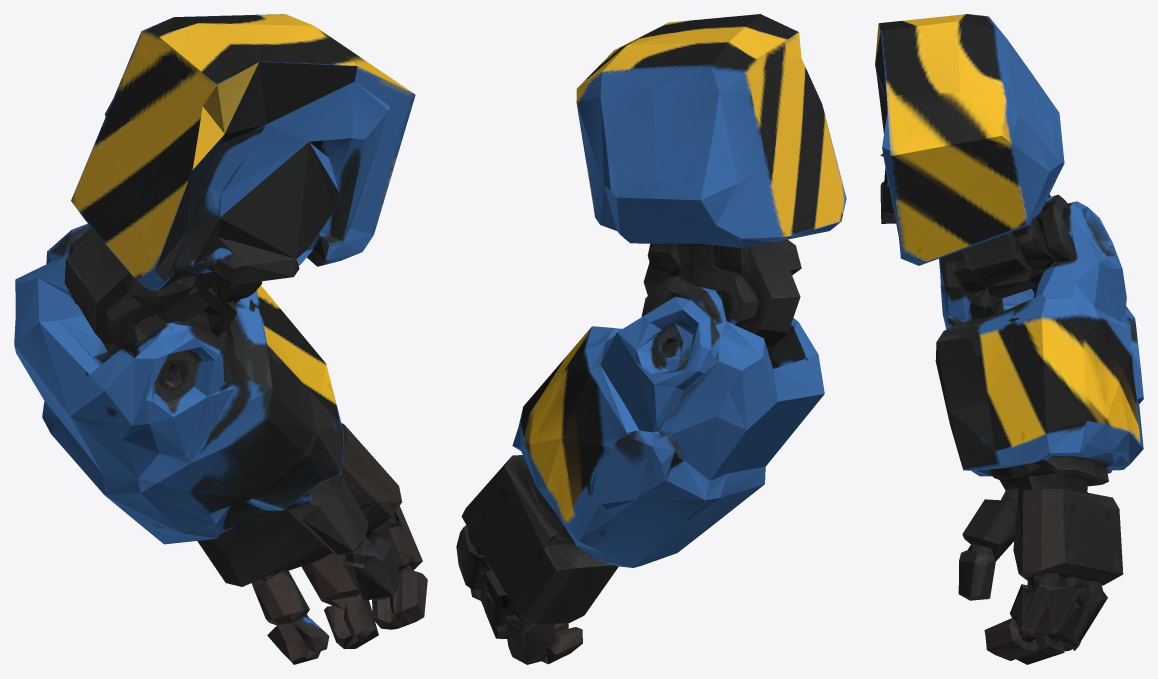
File: SM_HeavyDebris_Arm_L.fbx
The picture shows the model from 3 angles, left to right: view 1: azimuth 30°, elevation 25°; view 2: azimuth 150°, elevation 25°; view 3: azimuth 270°, elevation 25°; orthographic projection. The views are drawn at different scales.
Visible parts, largest first — view 1: SM_HeavyDebris_Arm_L; view 2: SM_HeavyDebris_Arm_L; view 3: SM_HeavyDebris_Arm_L.
Boxes of the visible parts, x1=… form: SM_HeavyDebris_Arm_L: x1=14, y1=14, x2=427, y2=664; SM_HeavyDebris_Arm_L: x1=456, y1=14, x2=846, y2=664; SM_HeavyDebris_Arm_L: x1=875, y1=14, x2=1143, y2=664.
Bounding box in the file's own units: 108 × 189 × 81.3.
1 material, 1 textured.
